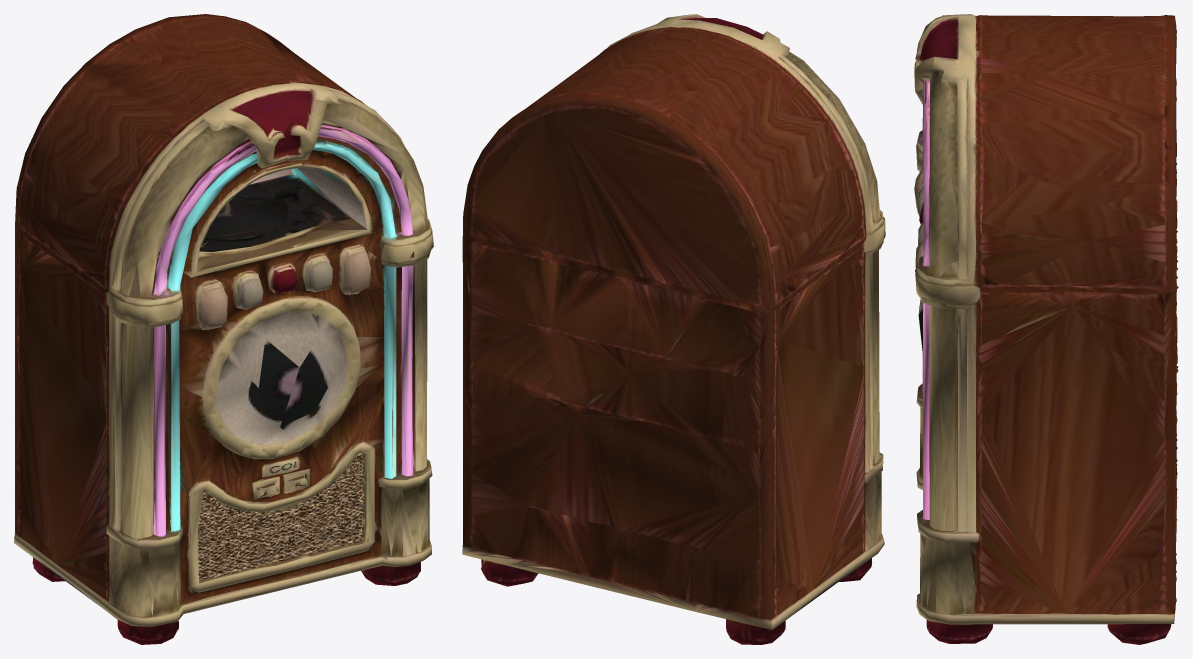
Rendered from jukebox.glb.
3 views of the same model, side by side, from view 1: azimuth 30°, elevation 25°; view 2: azimuth 150°, elevation 25°; view 3: azimuth 270°, elevation 25° (orthographic). The views are drawn at different scales.
Visible parts, largest first — view 1: Mesh_0; view 2: Mesh_0; view 3: Mesh_0.
Boxes of the visible parts, x1,y1,x2,y2 form: Mesh_0: (14, 14, 433, 644); Mesh_0: (462, 14, 885, 644); Mesh_0: (914, 14, 1178, 644).
Bounding box in the file's own units: 1.01 × 1.6 × 0.7067.
Materials: 1 (1 with a texture image).
